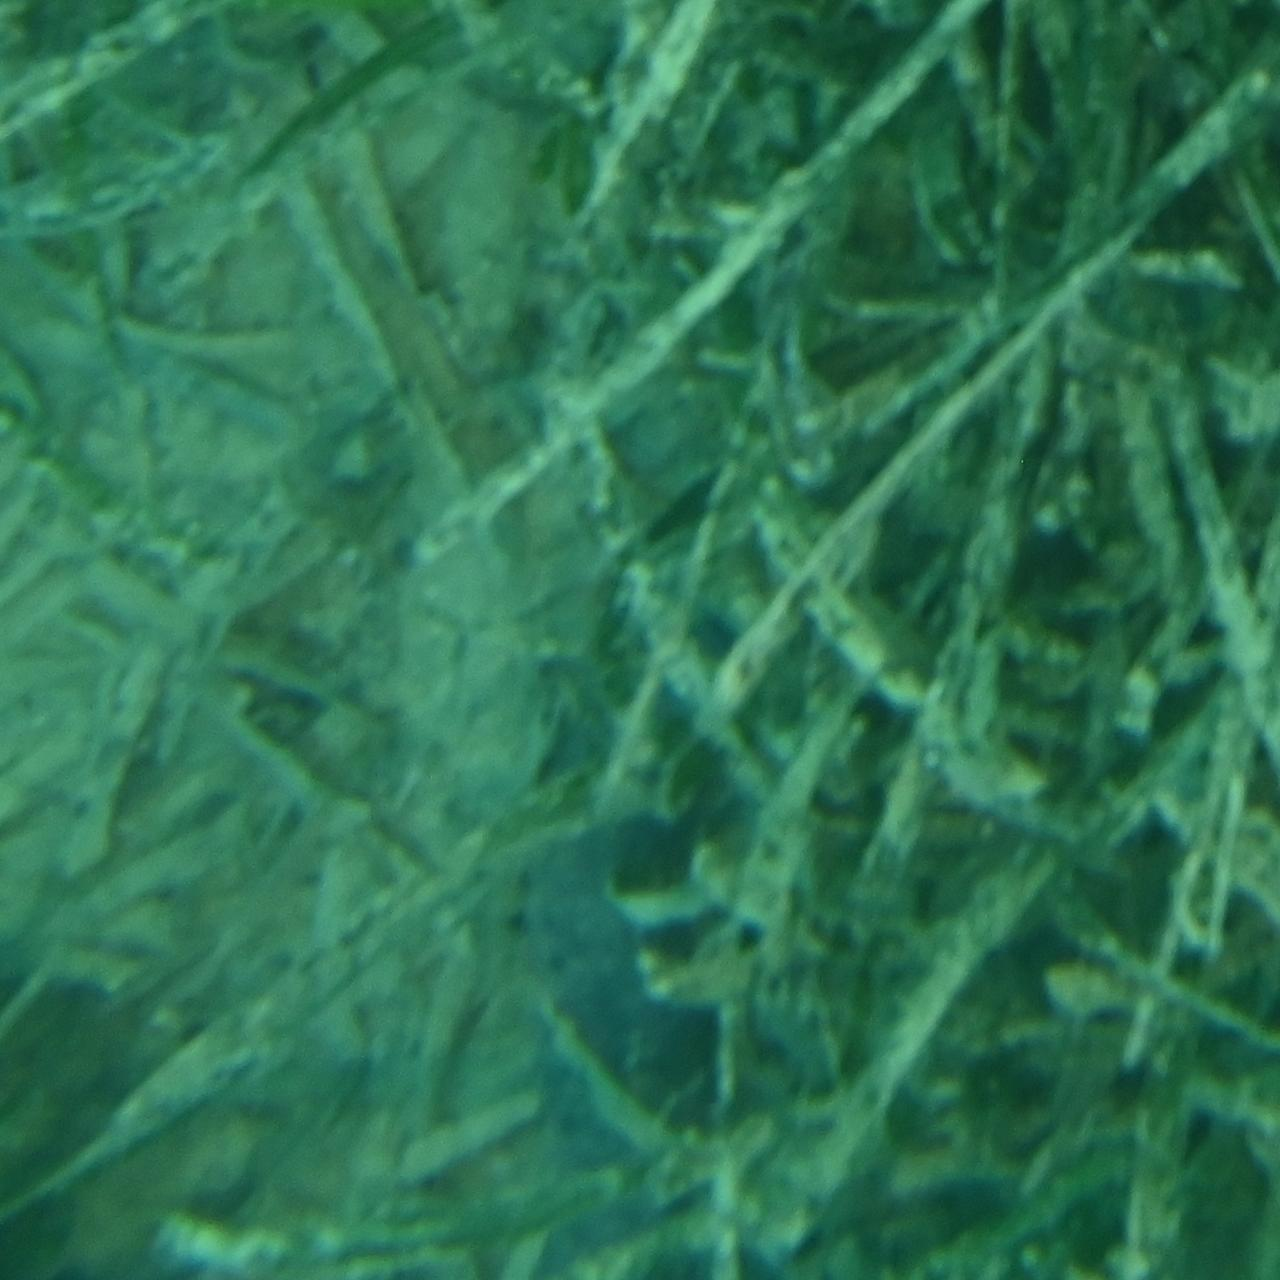Holothuria tubulosa: (512, 760, 768, 1278)
